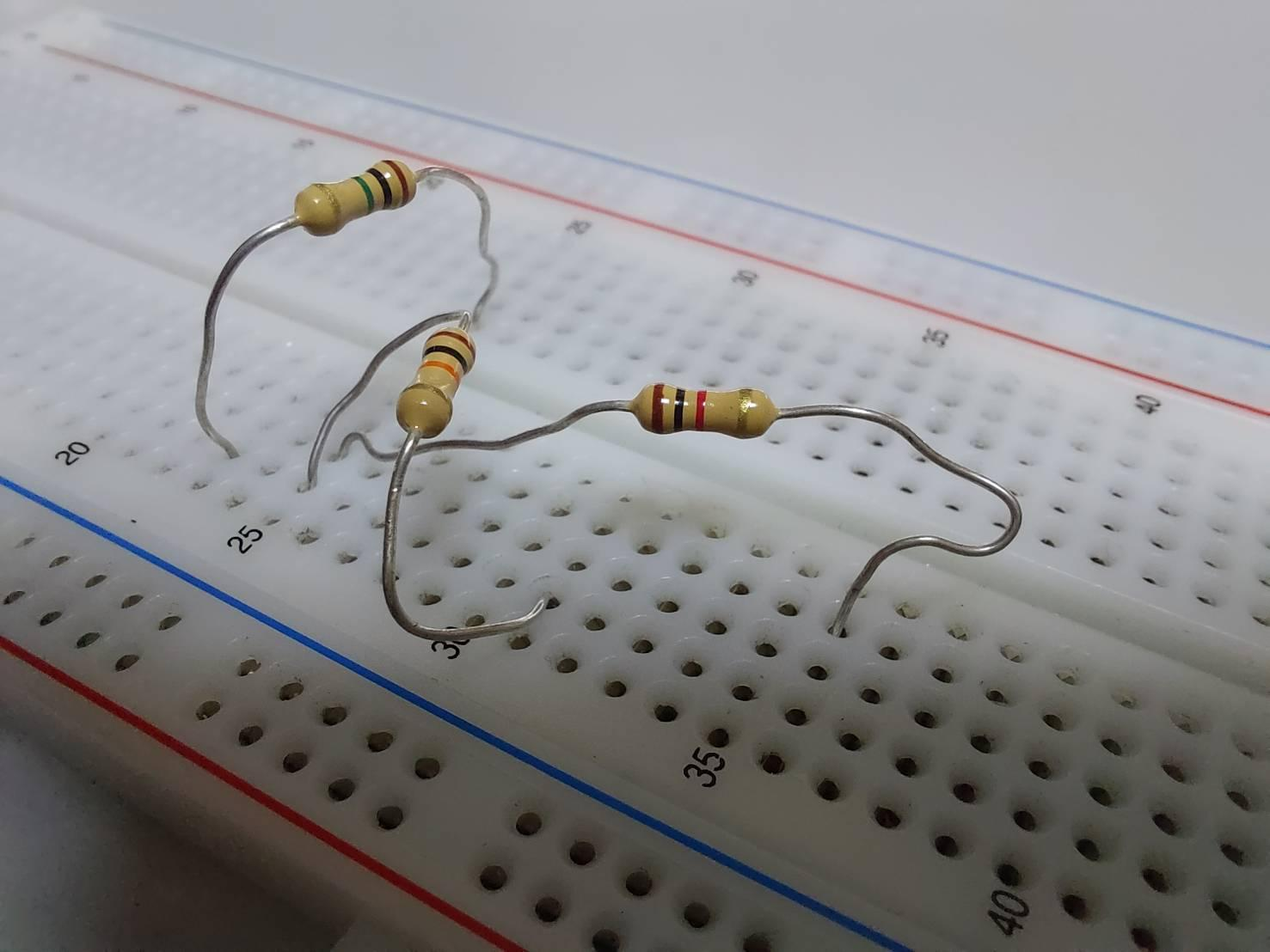resistor: (630, 369, 797, 451), (289, 156, 428, 242), (405, 323, 480, 434)
